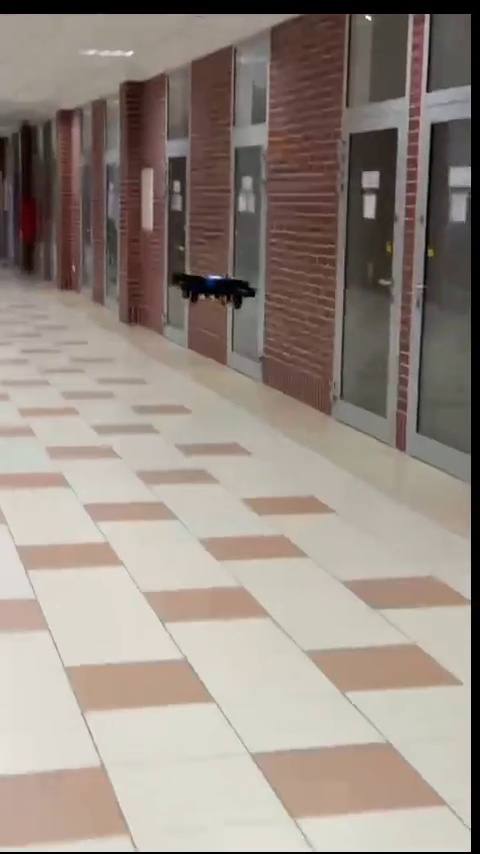drone: (174, 271, 255, 310)
